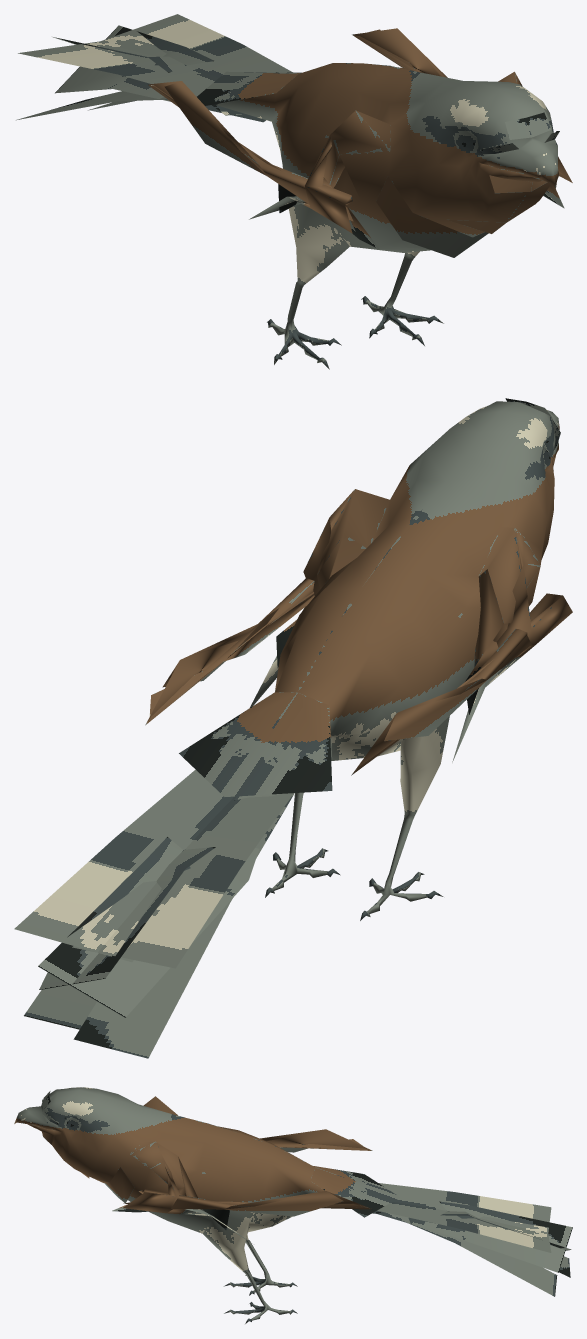
Rendered from bird-warm-bib.glb.
3 renders of one model, top to bottom at view 1: azimuth 30°, elevation 25°; view 2: azimuth 150°, elevation 25°; view 3: azimuth 270°, elevation 25°, orthographic. The views are drawn at different scales.
Visible parts, largest first — view 1: bird-warm-bib runtime mesh; view 2: bird-warm-bib runtime mesh; view 3: bird-warm-bib runtime mesh.
Boxes of the visible parts, x1,y1,x2,y2 form: bird-warm-bib runtime mesh: (16,14,572,369); bird-warm-bib runtime mesh: (14,398,572,1058); bird-warm-bib runtime mesh: (14,1087,572,1323).
Size of the model in its own units: 0.1522 by 0.23 by 0.555.
Materials: 1 (1 with a texture image).
